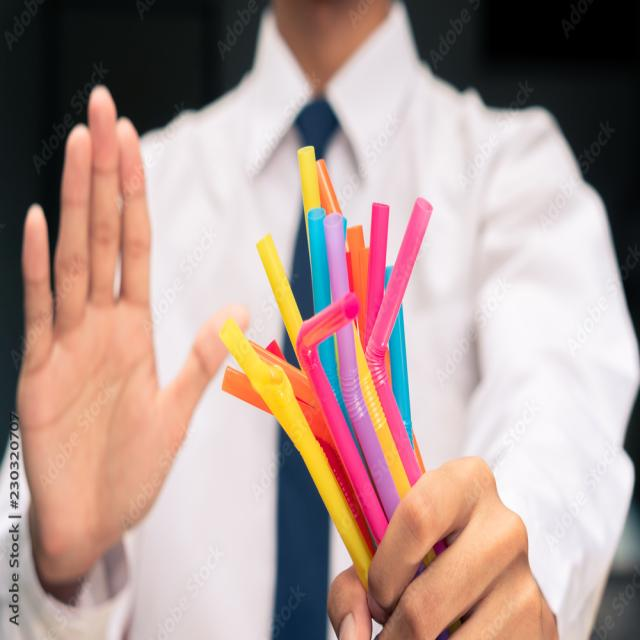plastic: (360, 181, 446, 385)
